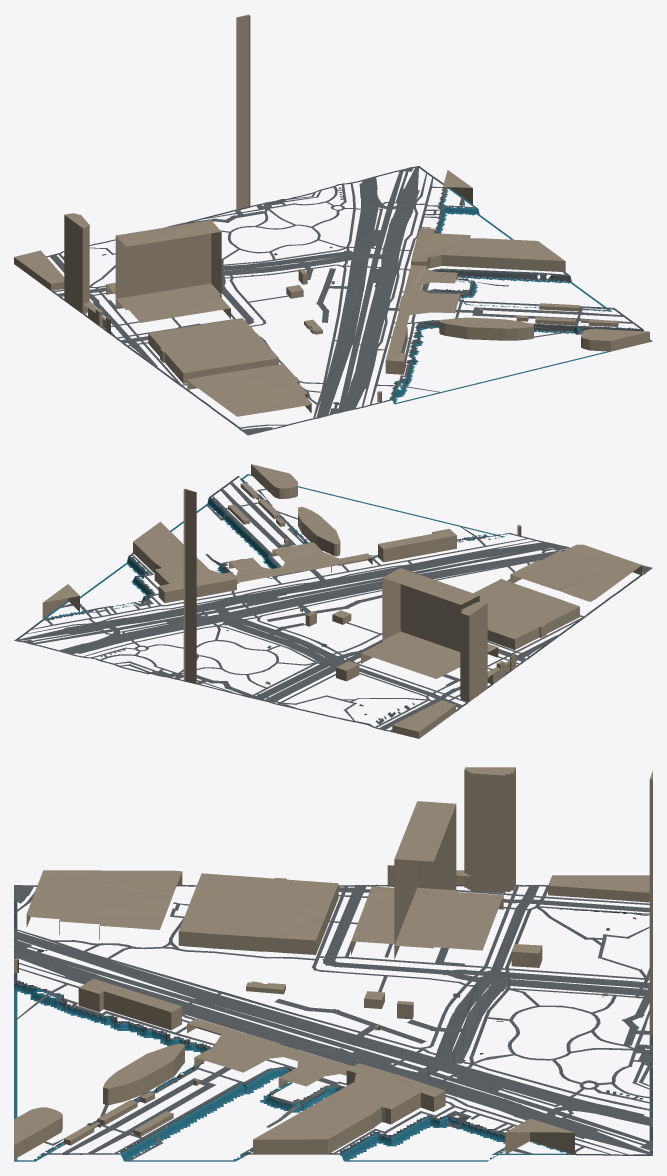
File: epsg26910-1440-10894.lod1-adaptive.glb
The picture shows the model from 3 angles, top to bottom: view 1: azimuth 30°, elevation 25°; view 2: azimuth 150°, elevation 25°; view 3: azimuth 270°, elevation 25°; orthographic projection. The views are drawn at different scales.
Visible parts, largest first — view 1: epsg26910-1440-10894-lod1-adaptive; view 2: epsg26910-1440-10894-lod1-adaptive; view 3: epsg26910-1440-10894-lod1-adaptive.
Boxes of the visible parts, left/top/right/bottom form: epsg26910-1440-10894-lod1-adaptive: left=14, top=14, right=652, bottom=435; epsg26910-1440-10894-lod1-adaptive: left=14, top=464, right=652, bottom=738; epsg26910-1440-10894-lod1-adaptive: left=14, top=767, right=652, bottom=1161.
Bounding box in the file's own units: 384 × 179 × 384.
